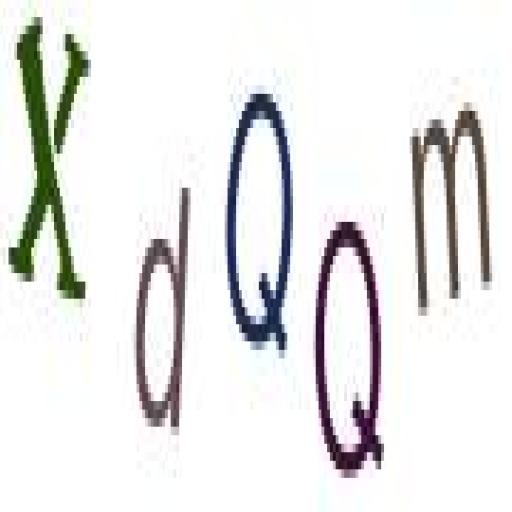Q: (315, 198, 397, 502), (220, 67, 296, 383)
X: (3, 3, 95, 323)
d: (124, 172, 203, 472)
m: (408, 89, 494, 322)
